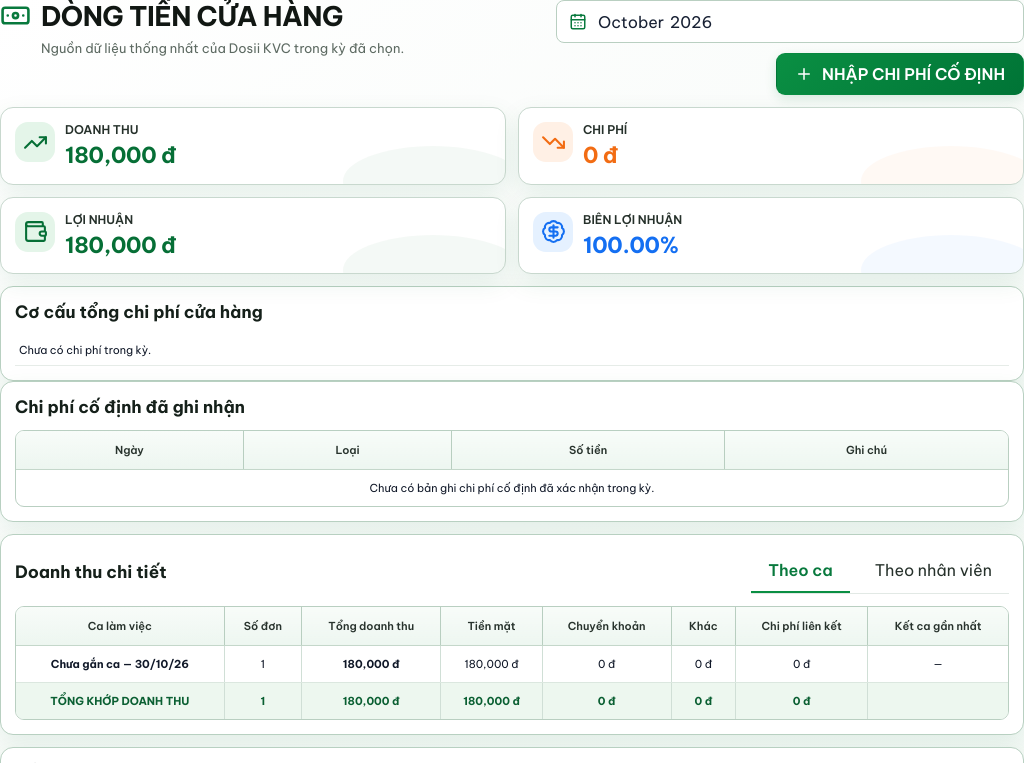
store order, attendance, and payroll summaries › tags a support employee in the employee-grouped cashflow view
The width and height of the screenshot is (1024, 763).
Click the button "Theo nhân viên" at (933, 571), box [858, 549, 1009, 593]
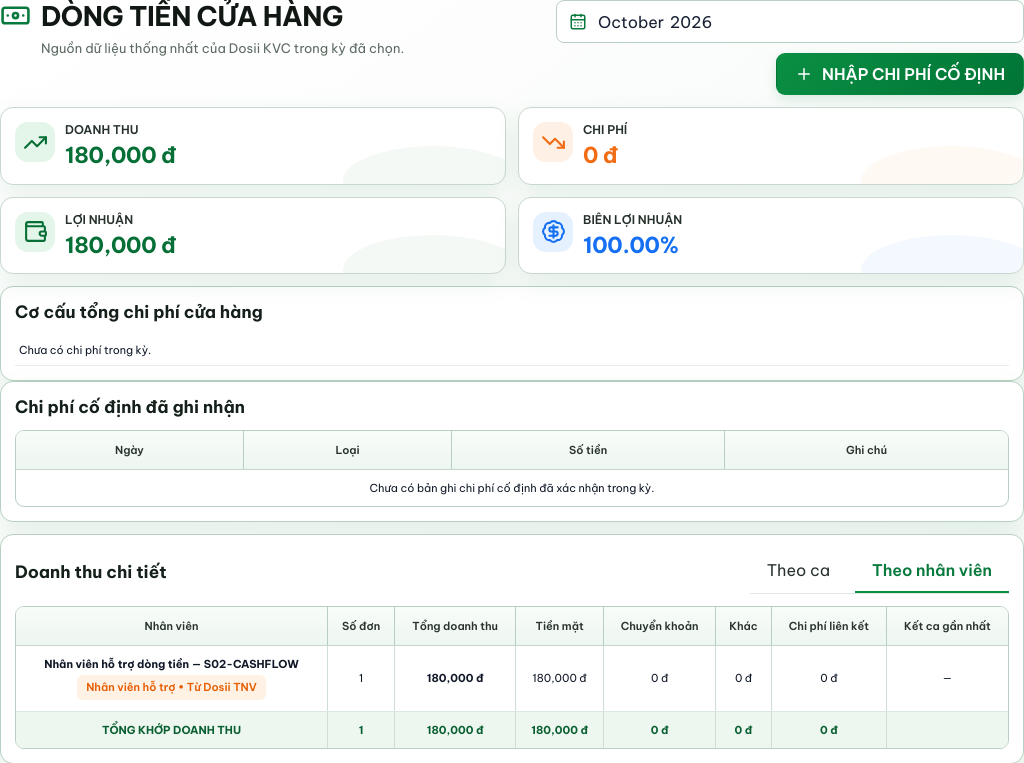
Expected: the text "Nhân viên hỗ trợ • Từ Dosii TNV" is shown, [77, 675, 266, 700]
